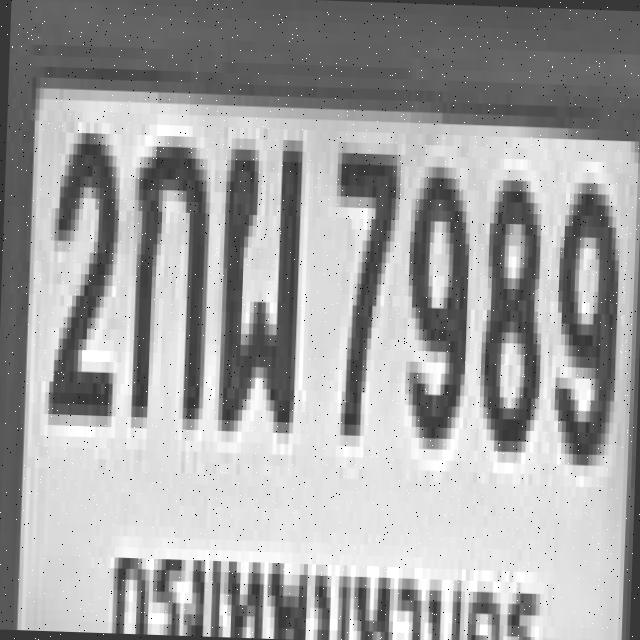10GorGai: (127, 124, 208, 418)
2: (44, 120, 118, 404)
37PhorPhueng: (214, 127, 299, 422)
7: (322, 142, 396, 426)
8: (473, 168, 542, 442)
9: (548, 170, 618, 454), (399, 155, 468, 439)
